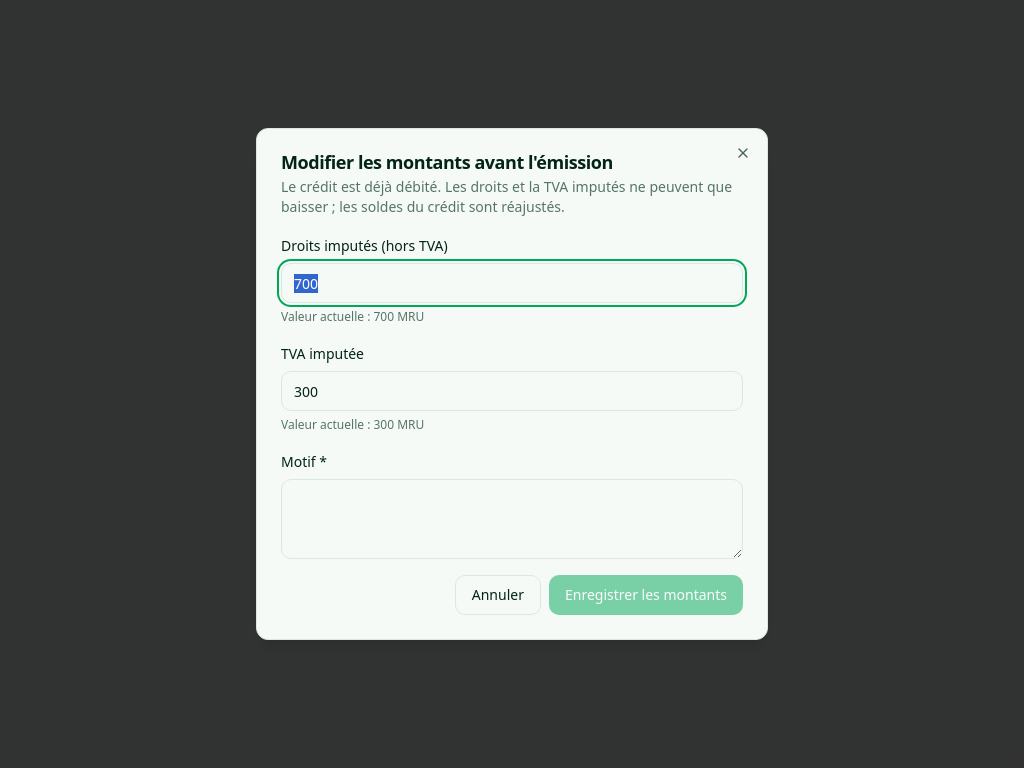
it: dialogue « Modifier les montants » › affiche le refus du serveur tel quel
Replace the text in the field labelled "TVA imputée" with "200": (512, 391) [281,371,743,411]
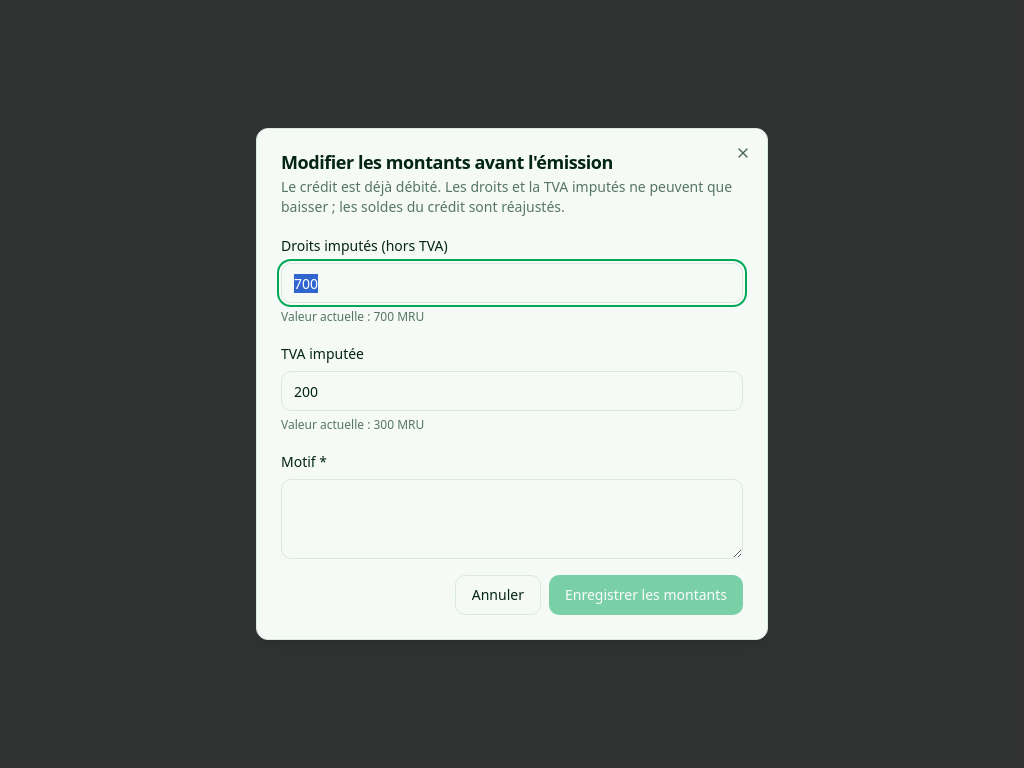
In the text box labelled "Motif *": (512, 519) [281,479,743,559], type "x"
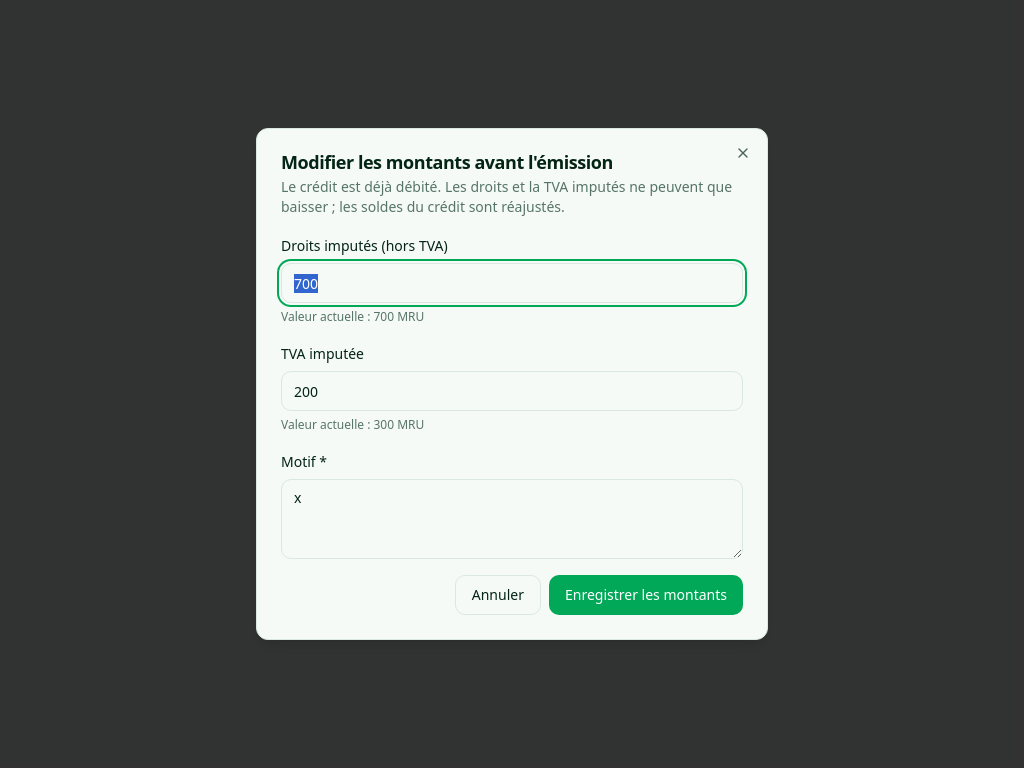
Click the button "Enregistrer les montants": (646, 595) [549,575,743,615]
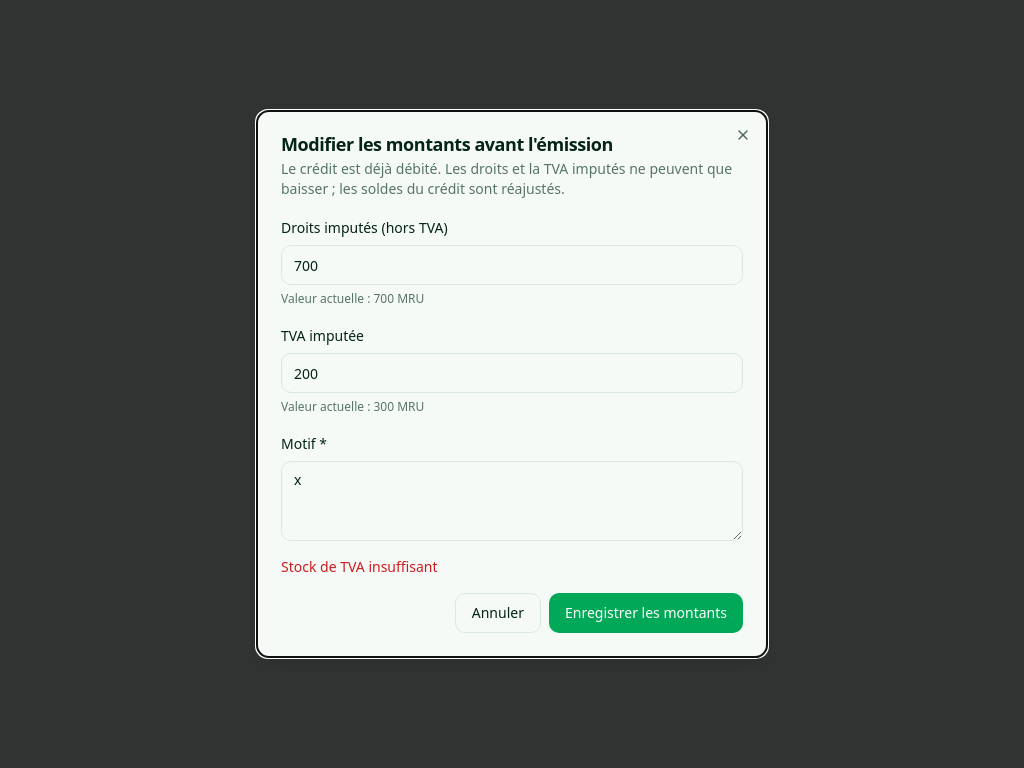
expect the text "Stock de TVA insuffisant" is shown: met, box [281,557,438,576]
